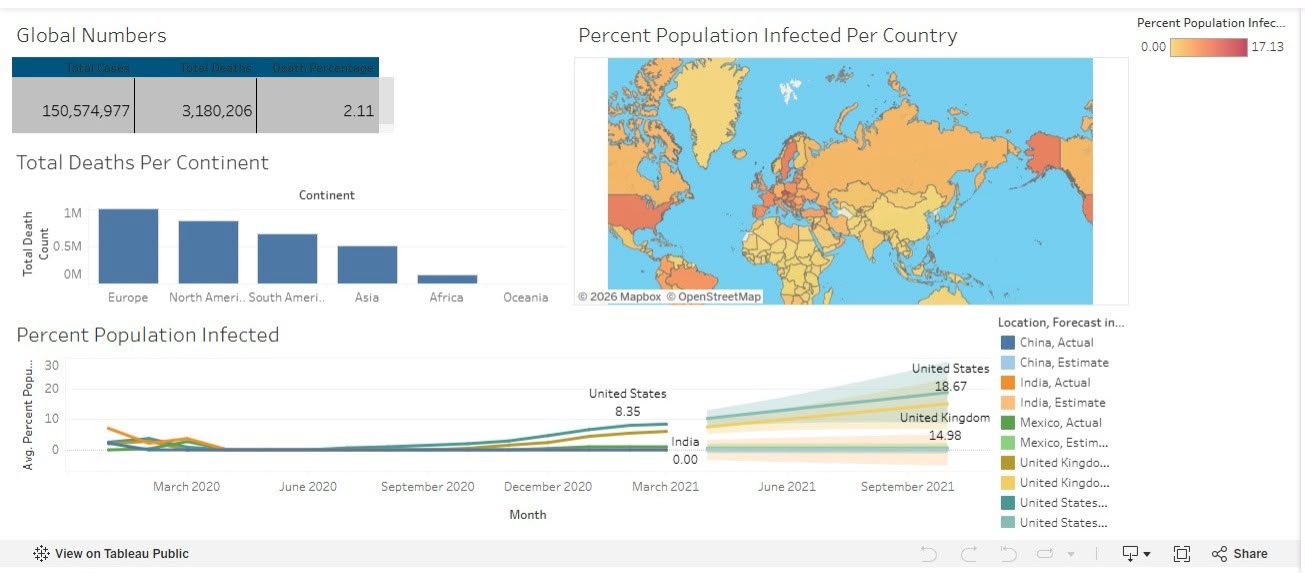

This screenshot's page, from the dashboard's own definition file:
{"tool":"tableau","page":{"name":"Dashboard 1","canvas":[1000,1000],"units":"permille","ordinal":0},"visuals":[{"type":"worksheet","title":"Sheet 1","mark":"Automatic","box":[6.9,13.5,423.8,236.5]},{"type":"worksheet","title":"Sheet 3","mark":"Automatic","box":[430.7,13.5,423.8,559.1]},{"type":"legend","title":"Sheet 3","param":"[federated.0mpvv8m07dkilo1bhgqhm0pylmci].[sum:PercentPopulationInfected:qk]","box":[854.5,13.5,138.5,109.8]},{"type":"worksheet","title":"Sheet 2","mark":"Automatic","rows":["TotalDeathCount"],"cols":["location"],"box":[6.9,250,423.8,322.6]},{"type":"worksheet","title":"Sheet 4","mark":"Automatic","rows":["PercentPopulationInfected"],"cols":["date"],"box":[6.9,572.6,743.3,413.9]},{"type":"legend","title":"Sheet 4","param":"[federated.03fa7id1ulqejr16p9bb80p2qzdn].[none:Location:nk]\n[federated.03fa7id1u","box":[750.2,572.6,104.4,413.9]}]}

Visuals, with their boxes on the dashboard's canvas, which has no fixed pixel size, in thousandths of its width and height (x1, y1, x2, y2). These are canvas units, not pixel positions in the 1305x573 screenshot, which may show the page scaled, cropped or inside an application window:
"Sheet 1" worksheet: (left=7, top=14, right=431, bottom=250)
"Sheet 3" worksheet: (left=431, top=14, right=854, bottom=573)
"Sheet 3" legend: (left=854, top=14, right=993, bottom=123)
"Sheet 2" worksheet: (left=7, top=250, right=431, bottom=573)
"Sheet 4" worksheet: (left=7, top=573, right=750, bottom=986)
"Sheet 4" legend: (left=750, top=573, right=855, bottom=986)
